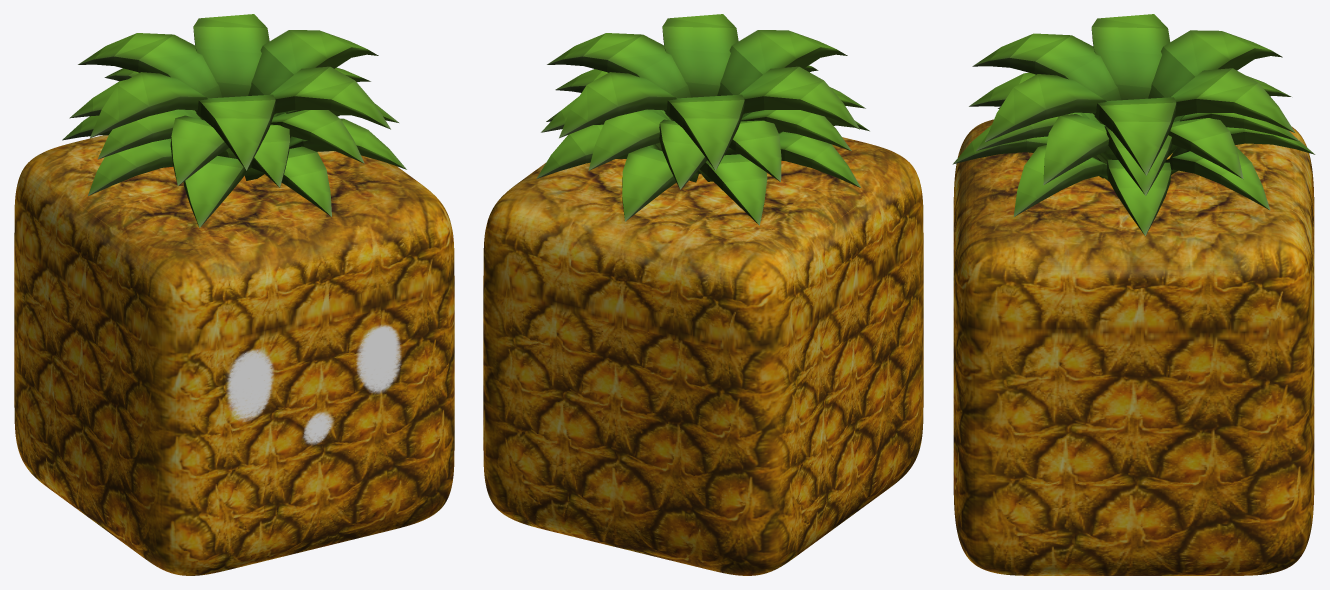
File: Pineapple.glb
3 renders of one model, left to right at view 1: azimuth 30°, elevation 25°; view 2: azimuth 150°, elevation 25°; view 3: azimuth 270°, elevation 25°, orthographic. The views are drawn at different scales.
Parts seen in each view (by area): view 1: 상자_1_상자 1, 튜브_튜브 2 (×6), 튜브_튜브 1 (×5), 튜브_튜브 (×4); view 2: 상자_1_상자 1, 튜브_튜브 2 (×6), 튜브_튜브 1 (×5), 튜브_튜브 (×4); view 3: 상자_1_상자 1, 튜브_튜브 2 (×6), 튜브_튜브 1 (×6), 튜브_튜브 (×5).
Boxes of the visible parts, x1,y1,x2,y2 form: 상자_1_상자 1: (14,135,454,575); 튜브_튜브 2 (×6): (78,14,390,170); 튜브_튜브 1 (×5): (69,79,364,187); 튜브_튜브 (×4): (88,118,406,227); 상자_1_상자 1: (483,137,923,575); 튜브_튜브 2 (×6): (547,14,859,170); 튜브_튜브 1 (×5): (555,69,851,189); 튜브_튜브 (×4): (536,124,860,225); 상자_1_상자 1: (953,119,1314,575); 튜브_튜브 2 (×6): (972,14,1295,175); 튜브_튜브 1 (×6): (969,72,1298,195); 튜브_튜브 (×5): (952,125,1315,236).
Bounding box in the file's own units: 1.01 × 1.39 × 1.01.
Materials: 4 (4 with a texture image).
